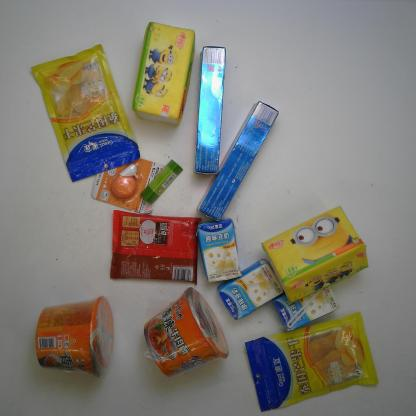Dessert: (110, 209, 202, 286)
Dried Fruit: (30, 41, 142, 182), (243, 310, 380, 413)
Instant Noodles: (142, 283, 231, 378), (32, 294, 116, 379)
Milk: (216, 258, 286, 321), (273, 284, 341, 332), (194, 218, 243, 284)
Personal Hygiene: (193, 100, 280, 224), (191, 45, 227, 176)
Stationery: (90, 152, 168, 216), (139, 156, 184, 205)
Tissue: (260, 204, 370, 305), (132, 21, 197, 125)
